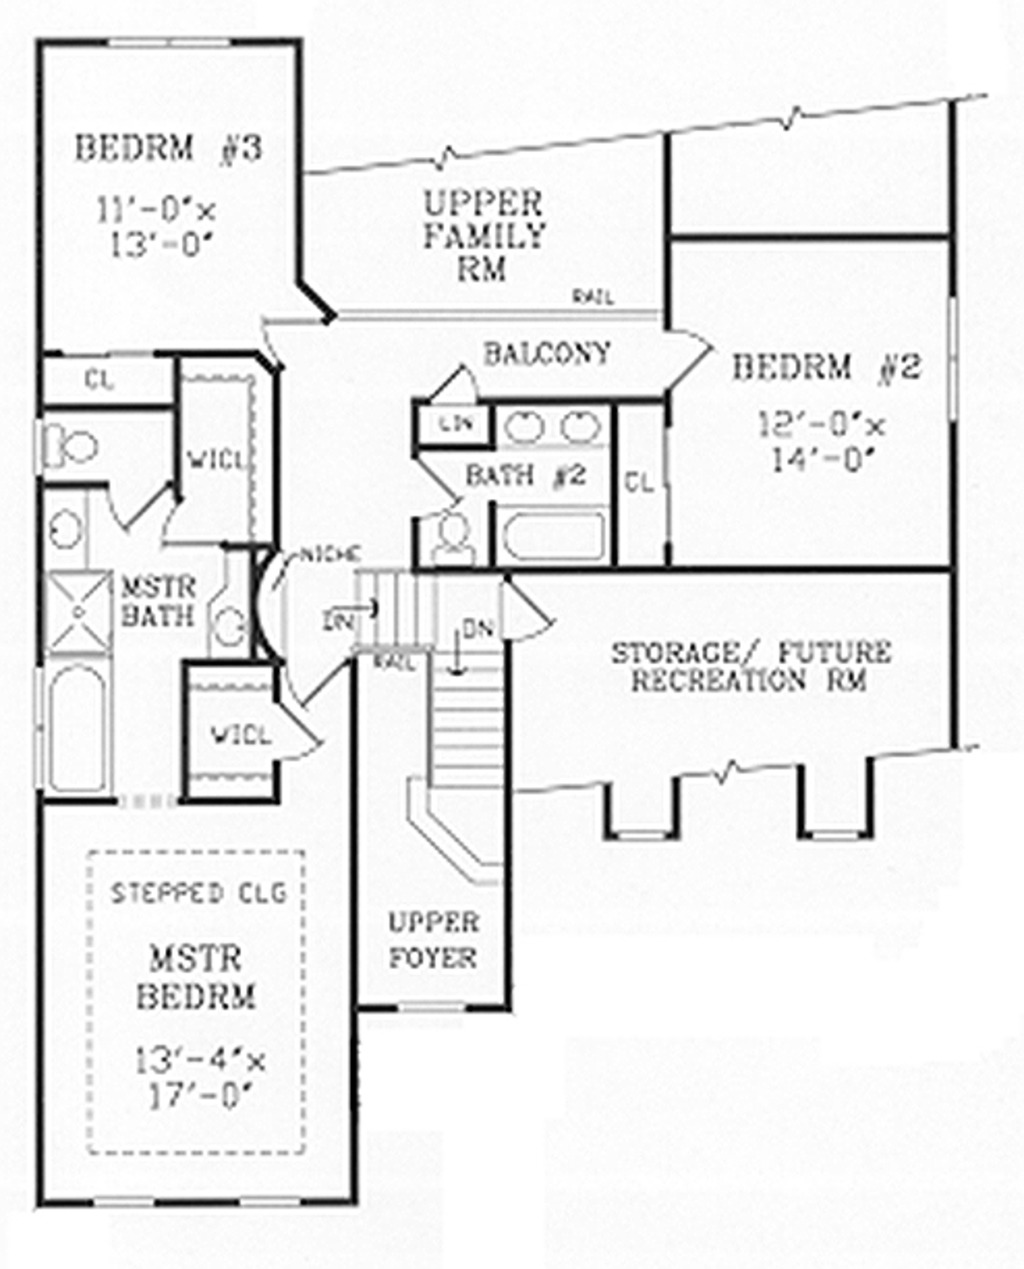door: (656, 323, 728, 397), (257, 306, 339, 371), (492, 572, 555, 648), (98, 471, 168, 535), (264, 694, 319, 775), (398, 451, 463, 518), (417, 365, 498, 409), (288, 651, 348, 711)
large_sink: (32, 407, 110, 473), (405, 509, 482, 571)
small_sink: (488, 400, 610, 455), (36, 488, 99, 567), (202, 582, 249, 650)
stairs: (348, 565, 502, 796)
tub: (42, 661, 114, 805), (494, 496, 609, 575)
window: (94, 21, 242, 61), (944, 286, 969, 421), (797, 817, 874, 851), (224, 1188, 311, 1211), (614, 817, 669, 850), (88, 1188, 165, 1211), (392, 997, 463, 1019)
